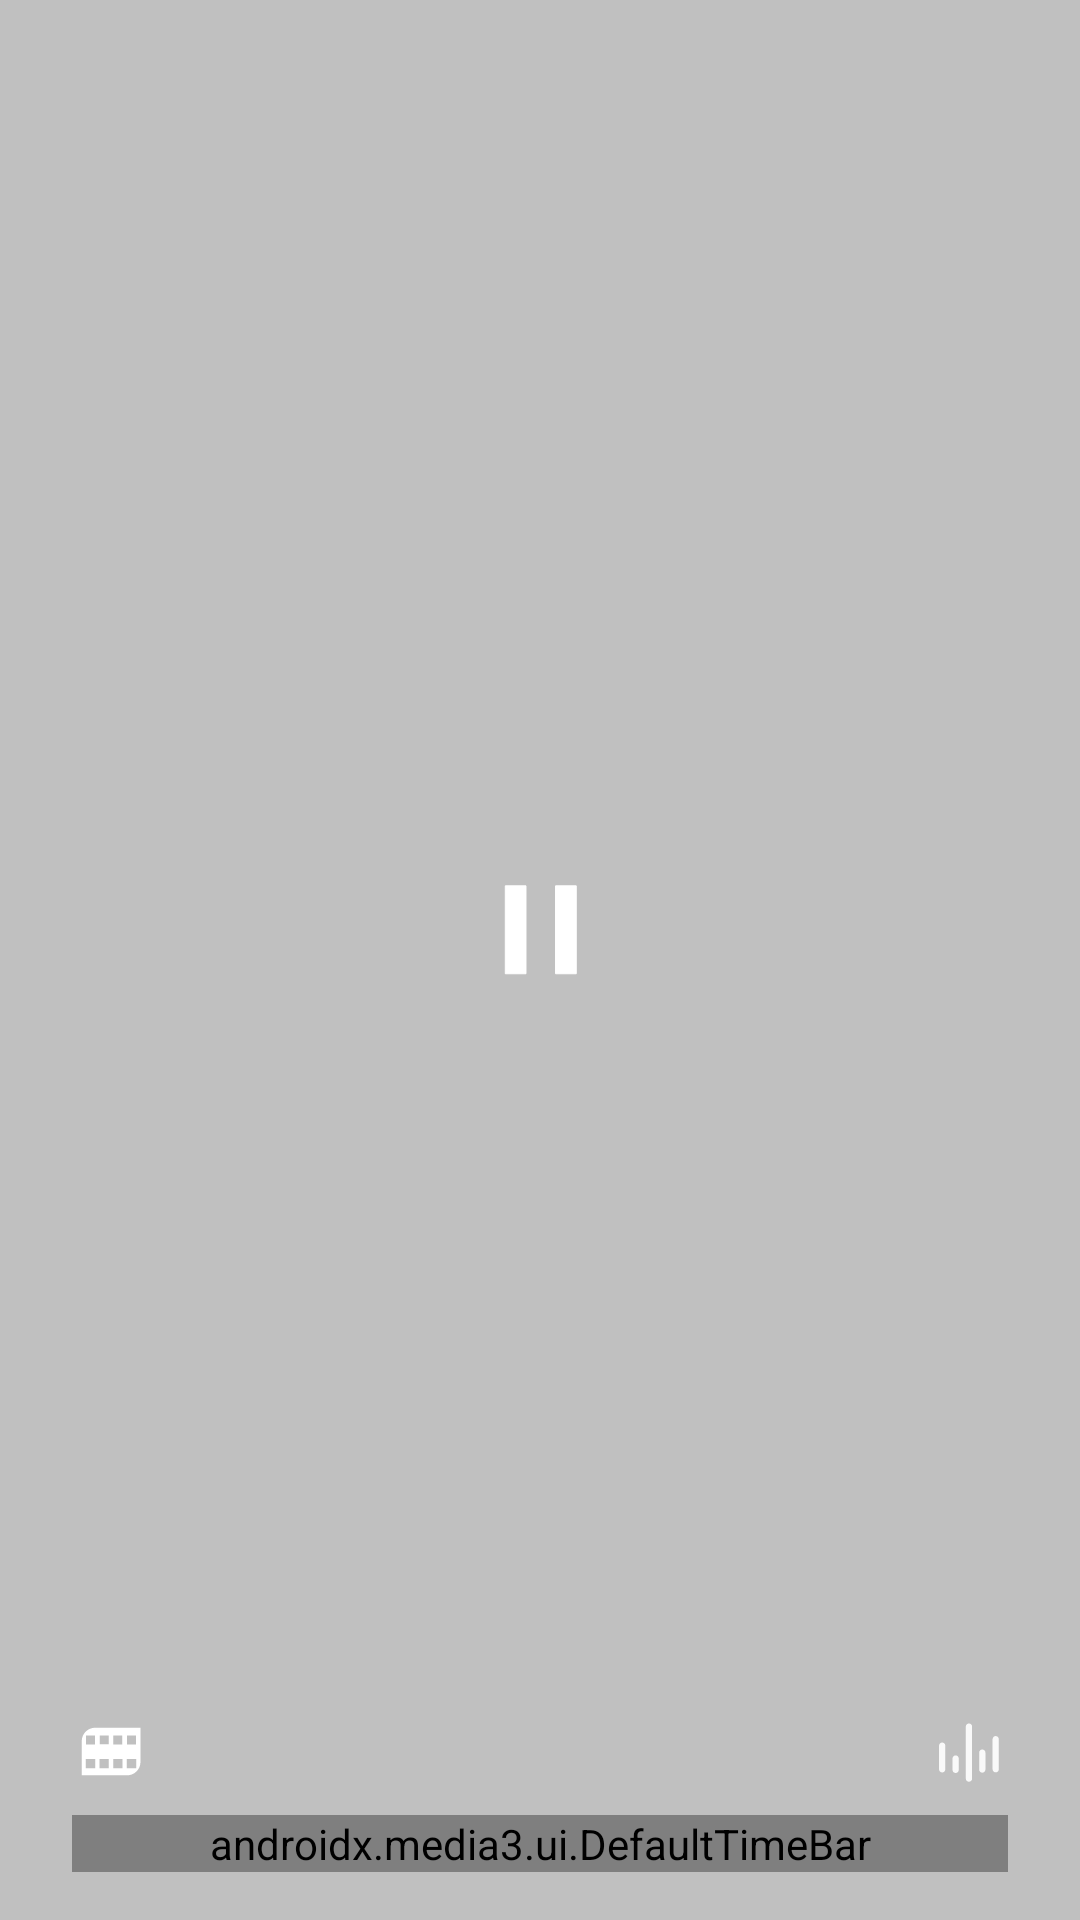

Locate icon controls on the screen. Image size 1080px×1920px, boxes as bbox=(x1, y1, x2, y2).
pause: bbox=(505, 885, 577, 974)
